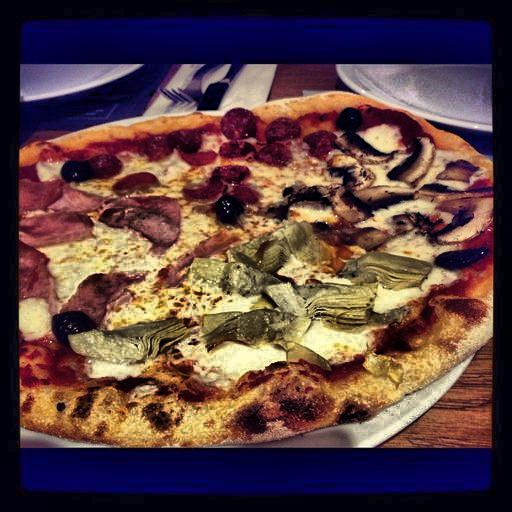pizza: (2, 77, 487, 435)
